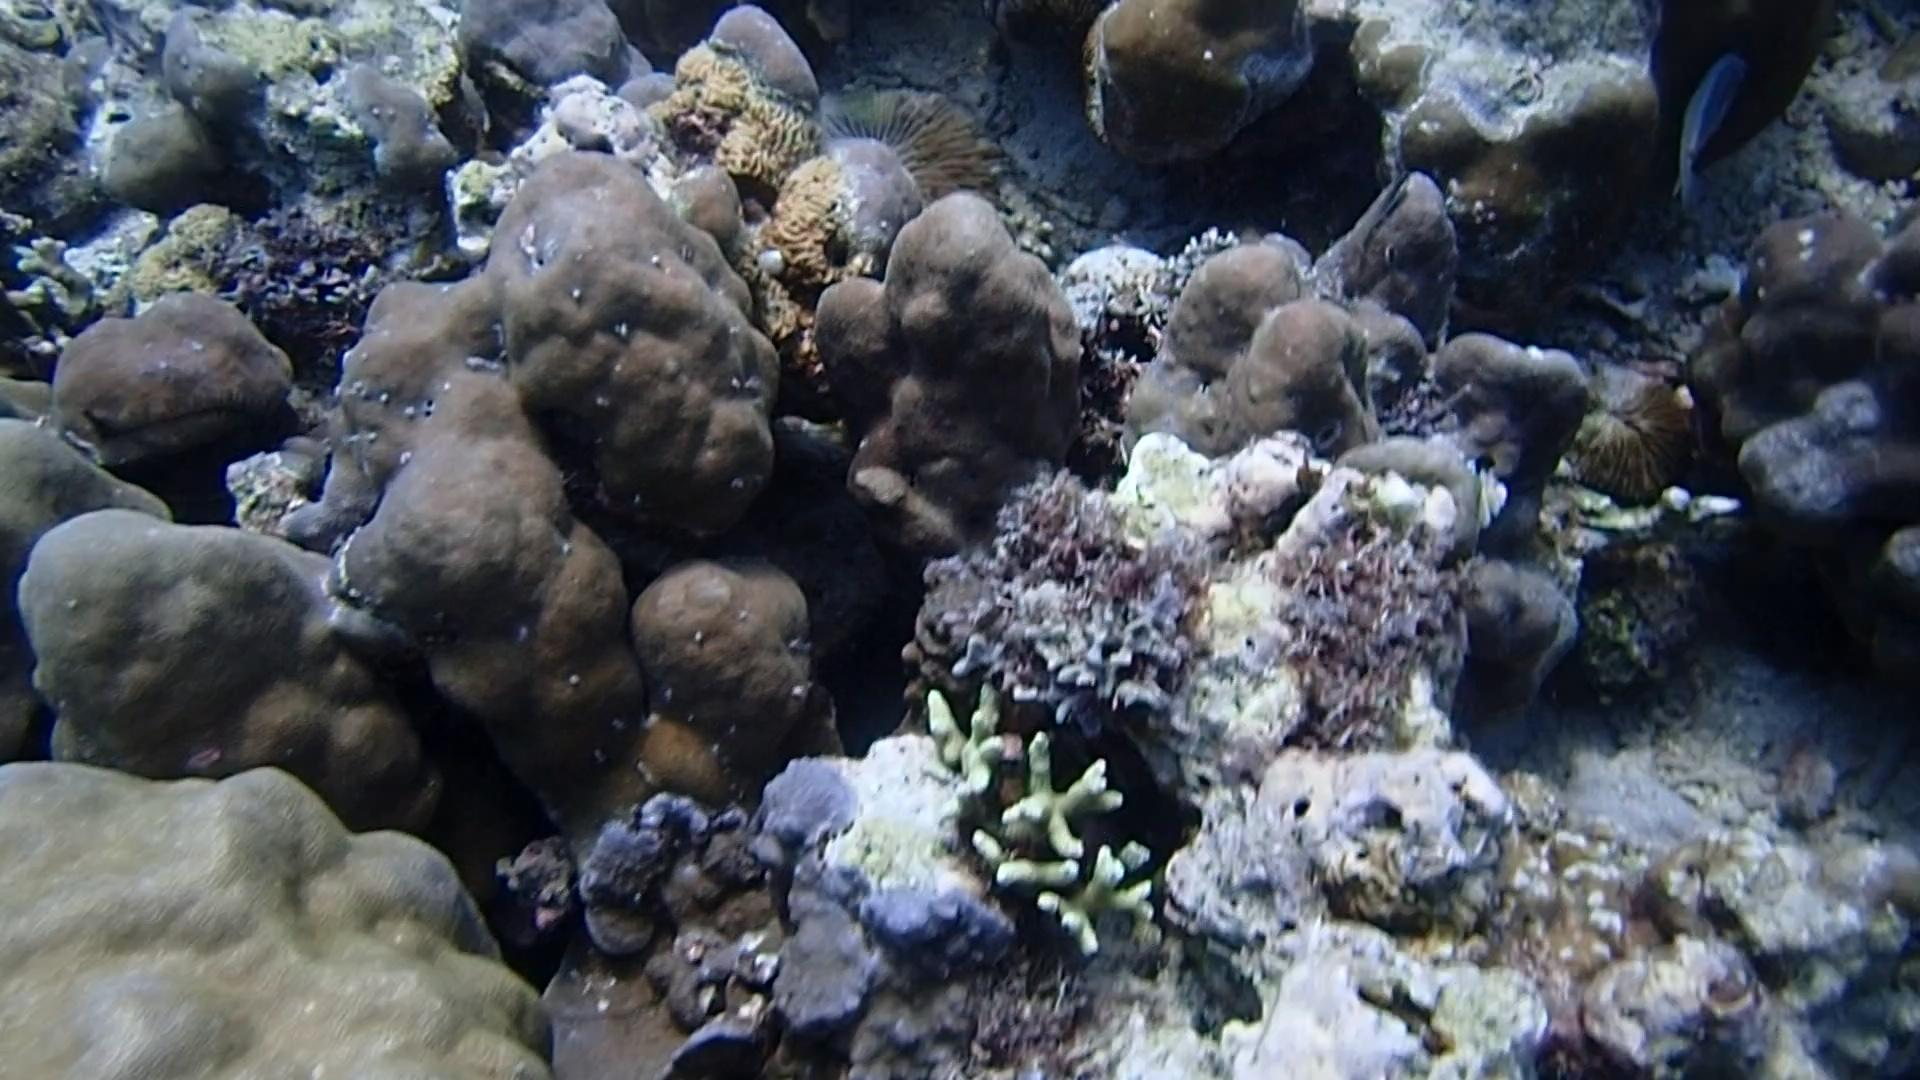Blue Fish Two: (1665, 41, 1751, 222)
